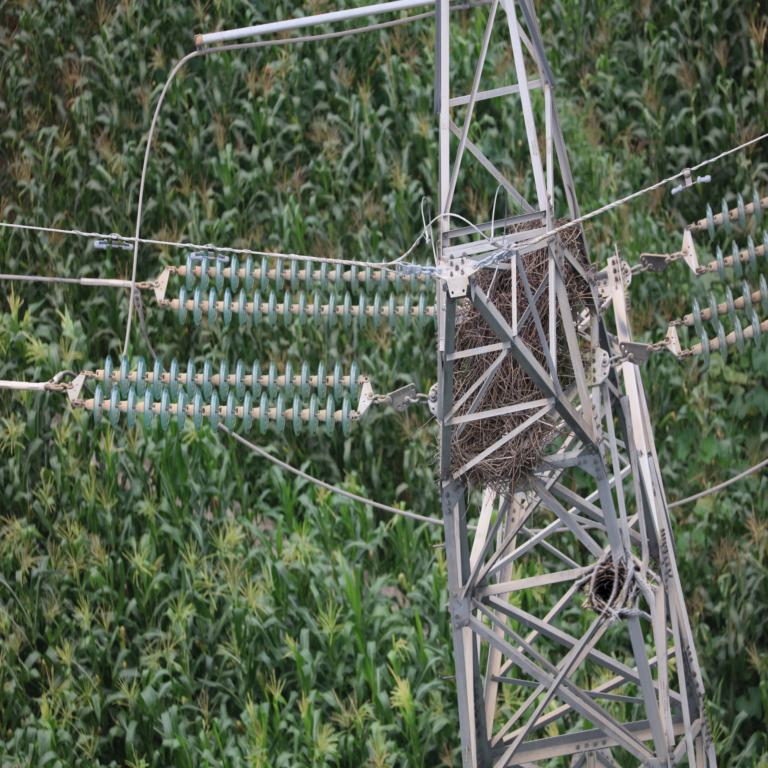nest: (454, 216, 578, 475), (583, 563, 642, 617)
